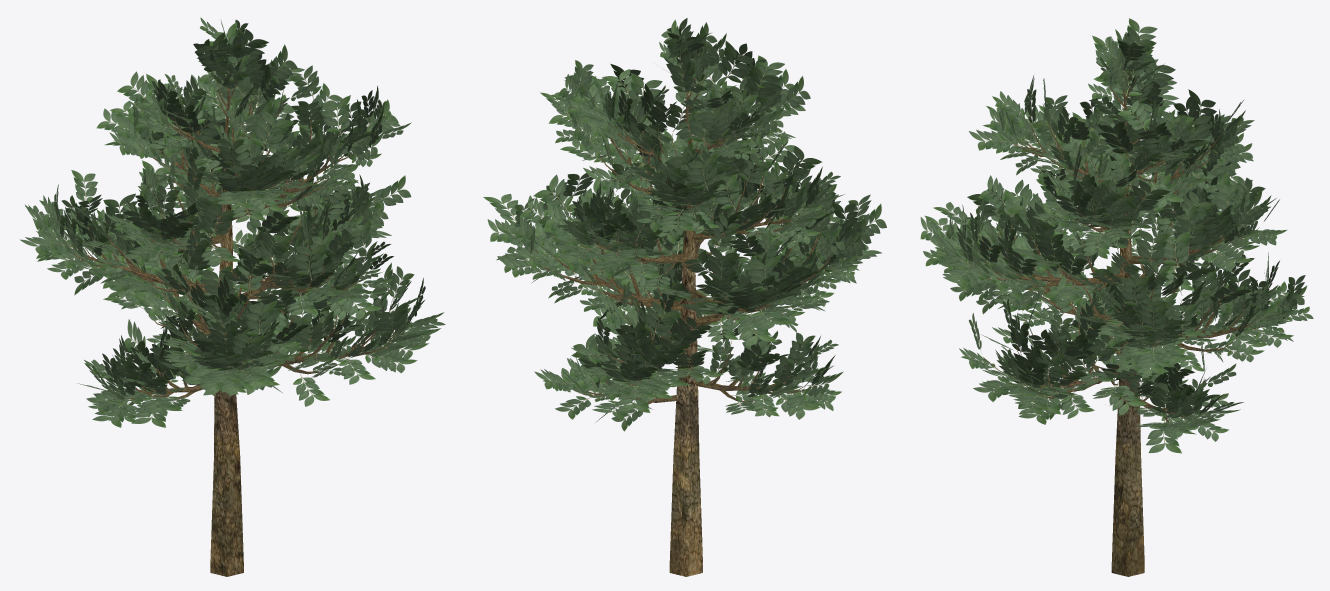
File: tree1.glb
3 renders of one model, left to right at view 1: azimuth 30°, elevation 25°; view 2: azimuth 150°, elevation 25°; view 3: azimuth 270°, elevation 25°, orthographic.
Visible parts, largest first — view 1: Low Poly Tree 3 Leaves, Low Poly Tree 3 Trunk; view 2: Low Poly Tree 3 Leaves, Low Poly Tree 3 Trunk; view 3: Low Poly Tree 3 Leaves, Low Poly Tree 3 Trunk.
Boxes of the visible parts, x1=… form: Low Poly Tree 3 Leaves: x1=20, y1=17, x2=445, y2=427; Low Poly Tree 3 Trunk: x1=58, y1=62, x2=410, y2=576; Low Poly Tree 3 Leaves: x1=483, y1=18, x2=886, y2=431; Low Poly Tree 3 Trunk: x1=525, y1=53, x2=840, y2=576; Low Poly Tree 3 Leaves: x1=920, y1=18, x2=1313, y2=453; Low Poly Tree 3 Trunk: x1=961, y1=71, x2=1262, y2=576.
Bounding box in the file's own units: 11.73 × 17.05 × 11.36.
2 materials, 2 textured.
